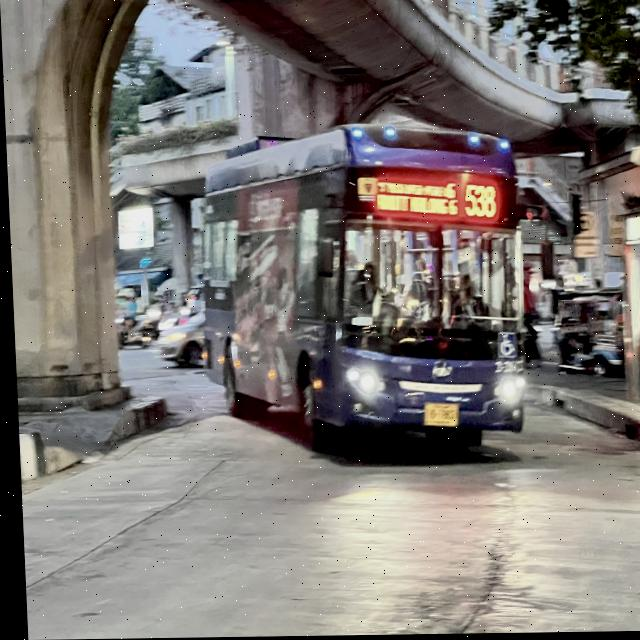Bus Line Number: (459, 182, 501, 222)
Bus Side Number: (490, 359, 523, 375)
Destination Sign: (372, 170, 461, 223)
TSB-Bus: (184, 106, 532, 471)
